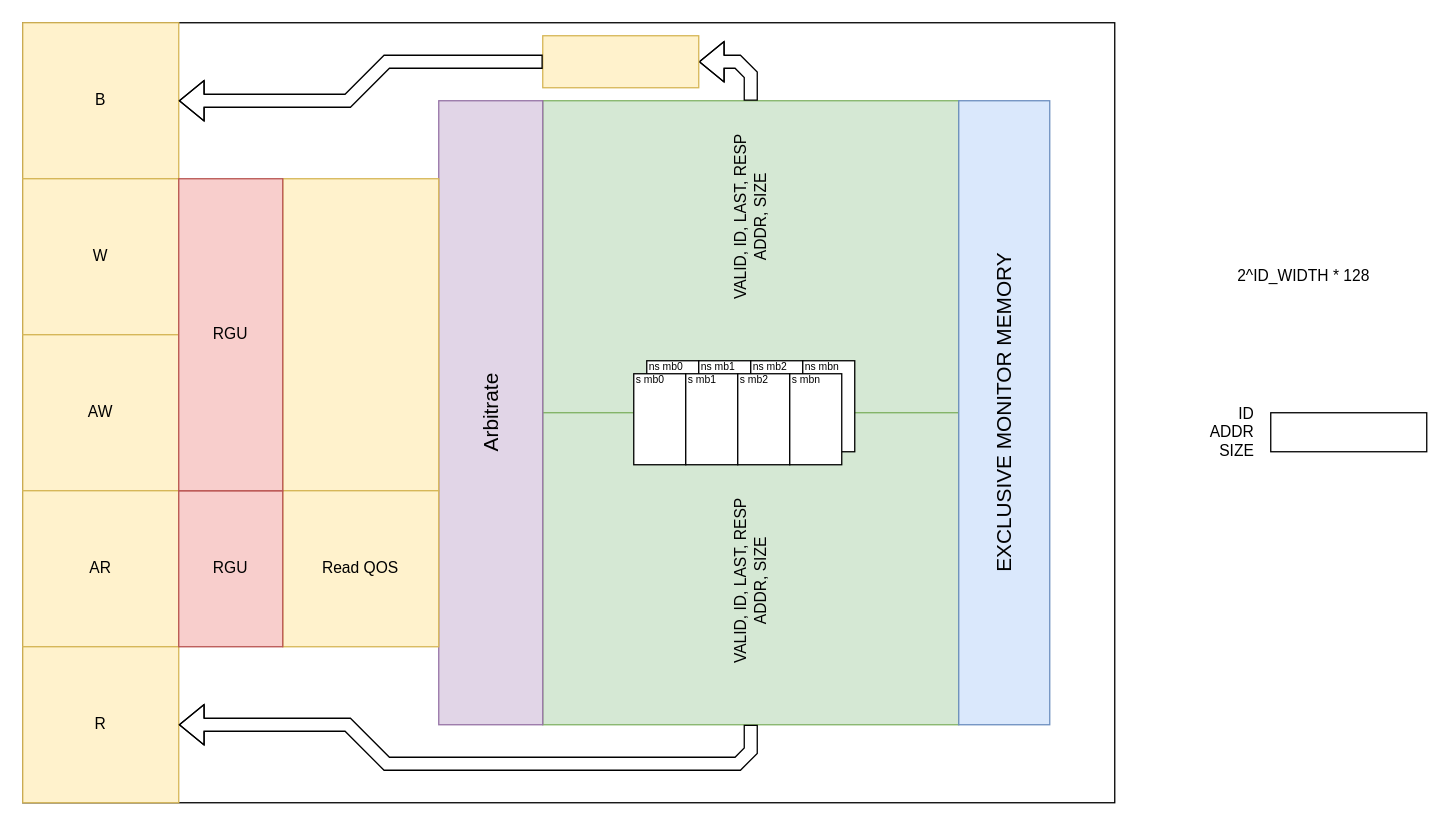
Image size: 1450x826. Some labels were removed from this diagram. The shapes that lost their labels are listed below. From the top down, each one's centre as x and y in pixels, then its label:
At point (620, 61): "Aggregator".
At point (360, 334): "Write QOS".
At point (1348, 431): "DATA".
